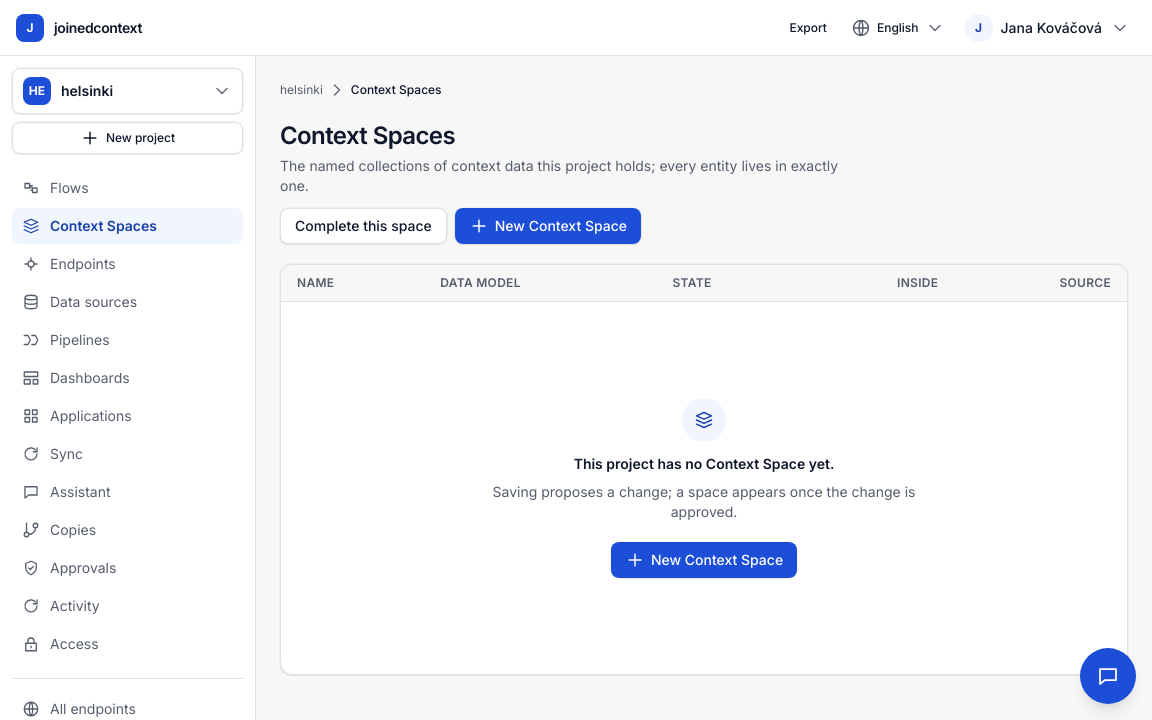
Test case: portal shell › lists every project the API holds and switches to the one picked
Expected: the navigation bar named "Main navigation" is shown, [0,56,256,719]
Click the button with aria-label "Projects": (128, 91) [12,68,243,114]
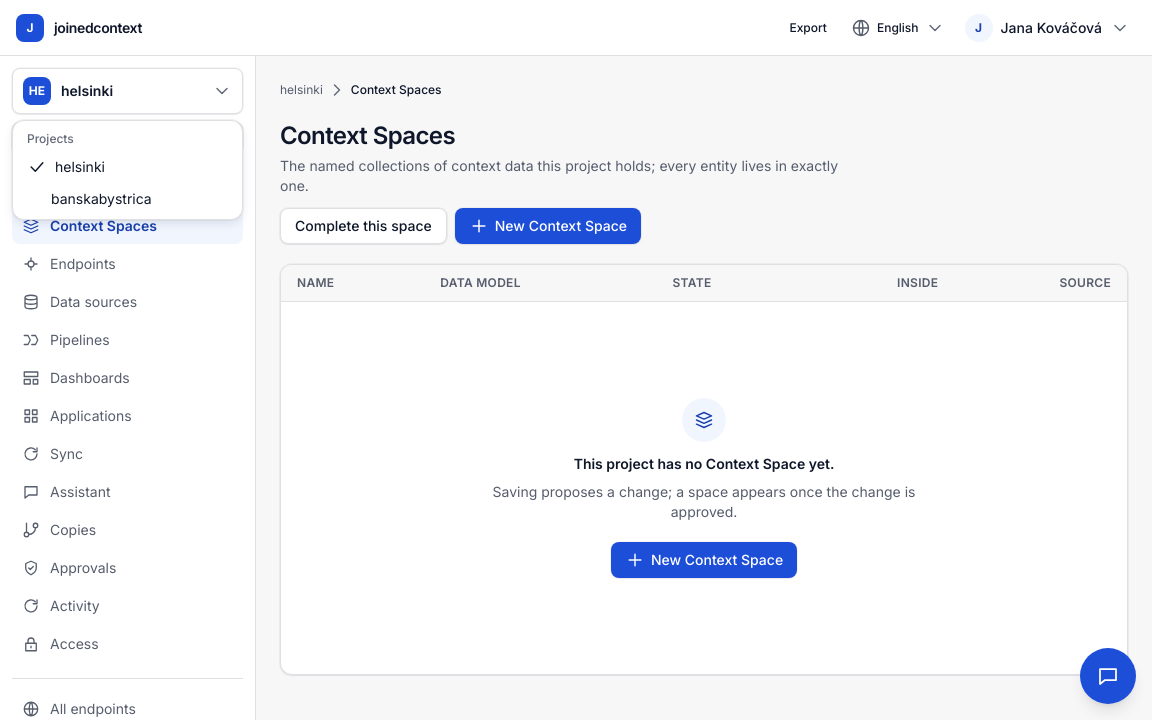
Expected: the menu items read "helsinki", "banskabystrica", in this order
Click the menu item "banskabystrica": (101, 198) [51,190,152,207]
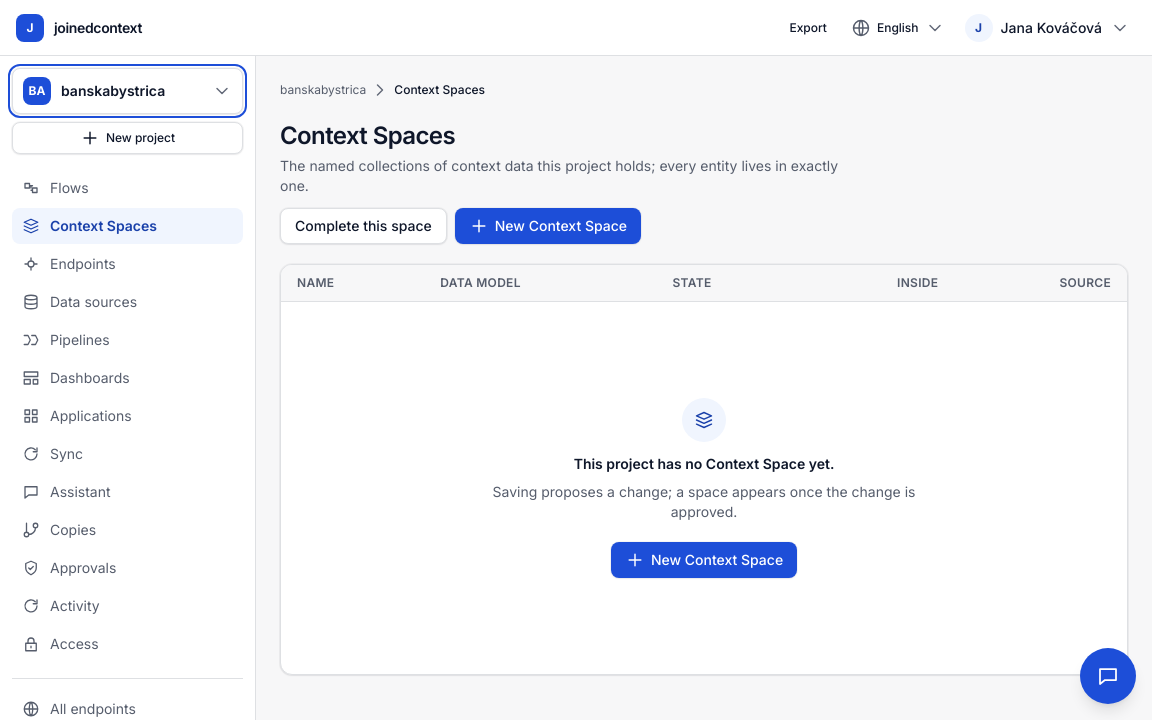
Expected: the button with aria-label "Projects" shows "banskabystrica", [12,68,243,114]
Expected: the link "banskabystrica" is shown, [280,82,366,97]
